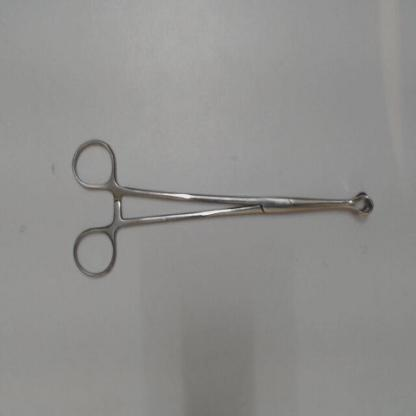8 Babcock Tissue Forceps: (68, 132, 380, 285)
